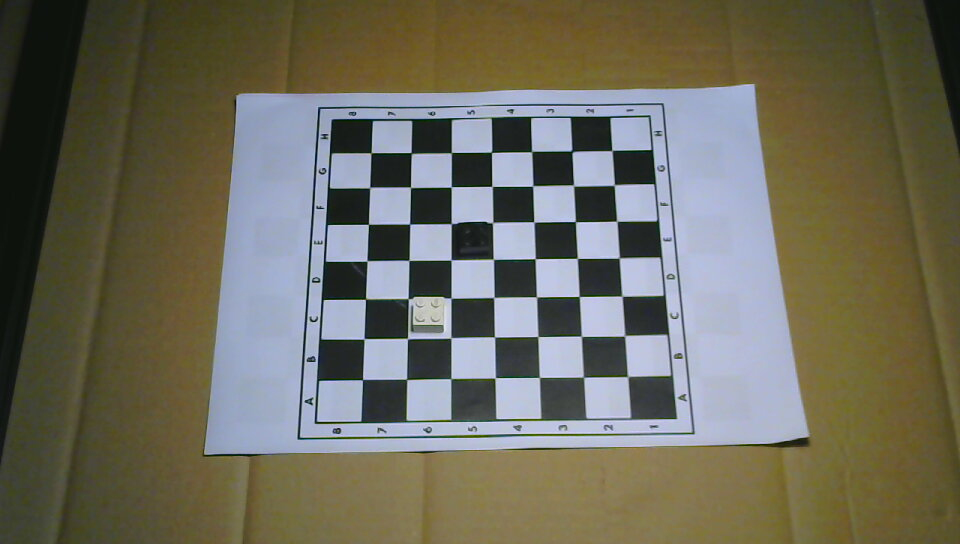bp: (457, 222, 491, 256)
wp: (411, 296, 444, 332)
